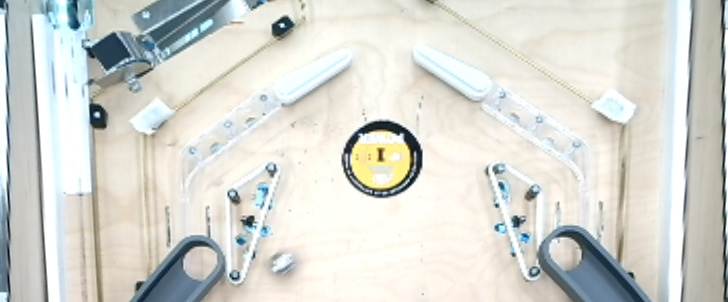ball: (266, 245, 304, 279)
flipper-left: (409, 39, 495, 103)
flipper-right: (268, 46, 357, 109)
